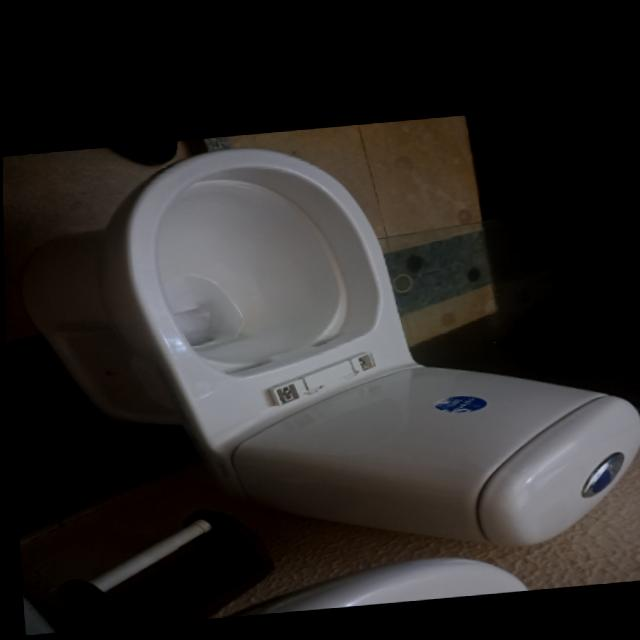toilet: (1, 108, 640, 595)
